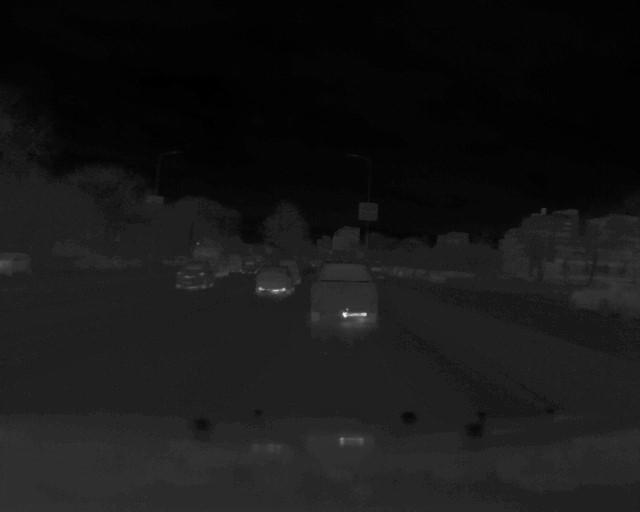car: (307, 258, 376, 324), (252, 263, 296, 298), (174, 256, 216, 291)
